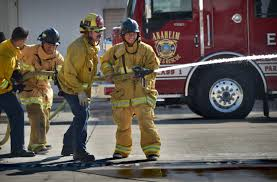emergent: (106, 19, 164, 158), (63, 12, 103, 165), (28, 29, 60, 148), (1, 28, 29, 156)
